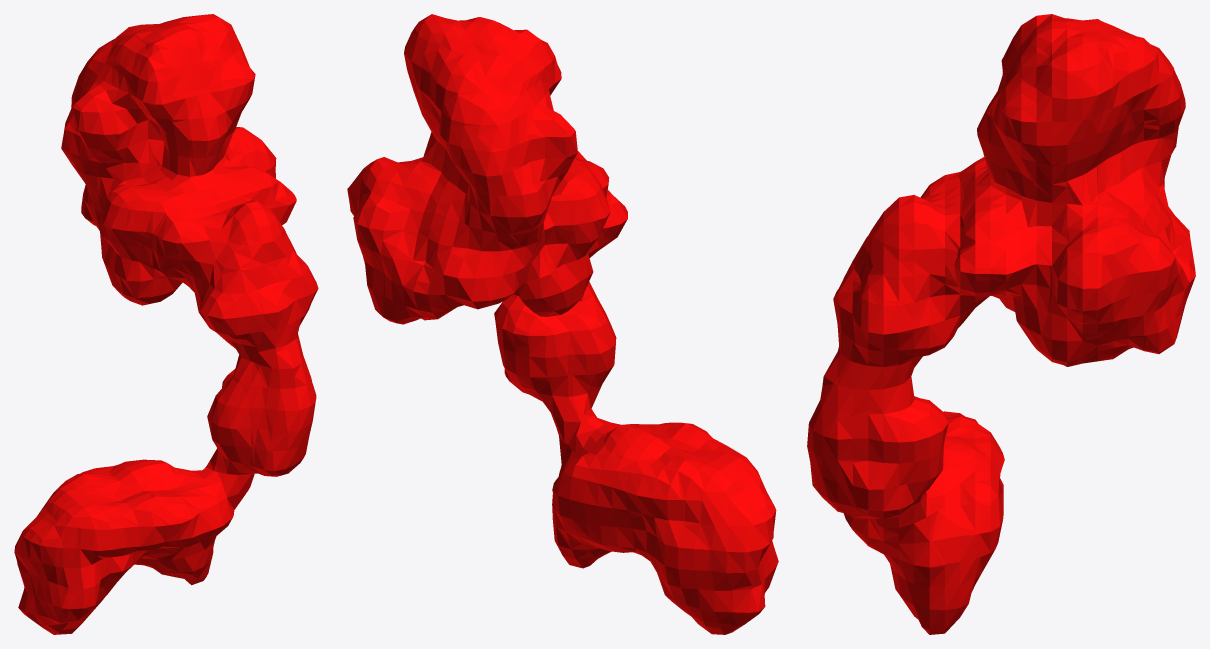
The model's file is relA_coarse.dae.
3 views of the same model, side by side, from view 1: azimuth 30°, elevation 25°; view 2: azimuth 150°, elevation 25°; view 3: azimuth 270°, elevation 25° (orthographic). The views are drawn at different scales.
Visible parts, largest first — view 1: relA; view 2: relA; view 3: relA.
Boxes of the visible parts, x1,y1,x2,y2 form: relA: [14, 14, 318, 634]; relA: [347, 14, 778, 634]; relA: [807, 14, 1195, 634].
Size of the model in its own units: 92.88 by 152 by 81.11.
